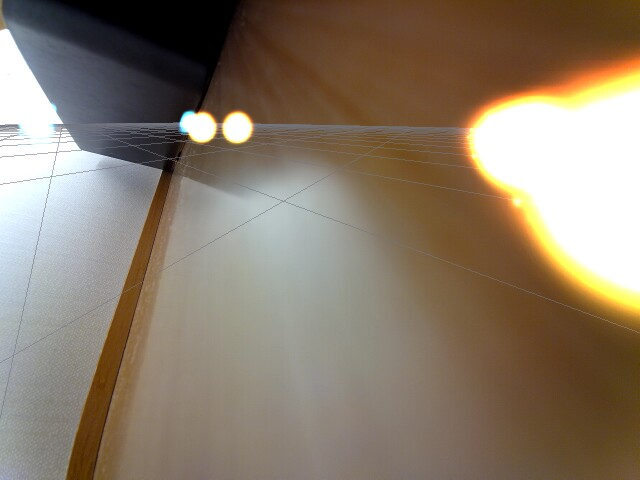firebig: (419, 30, 640, 338)
